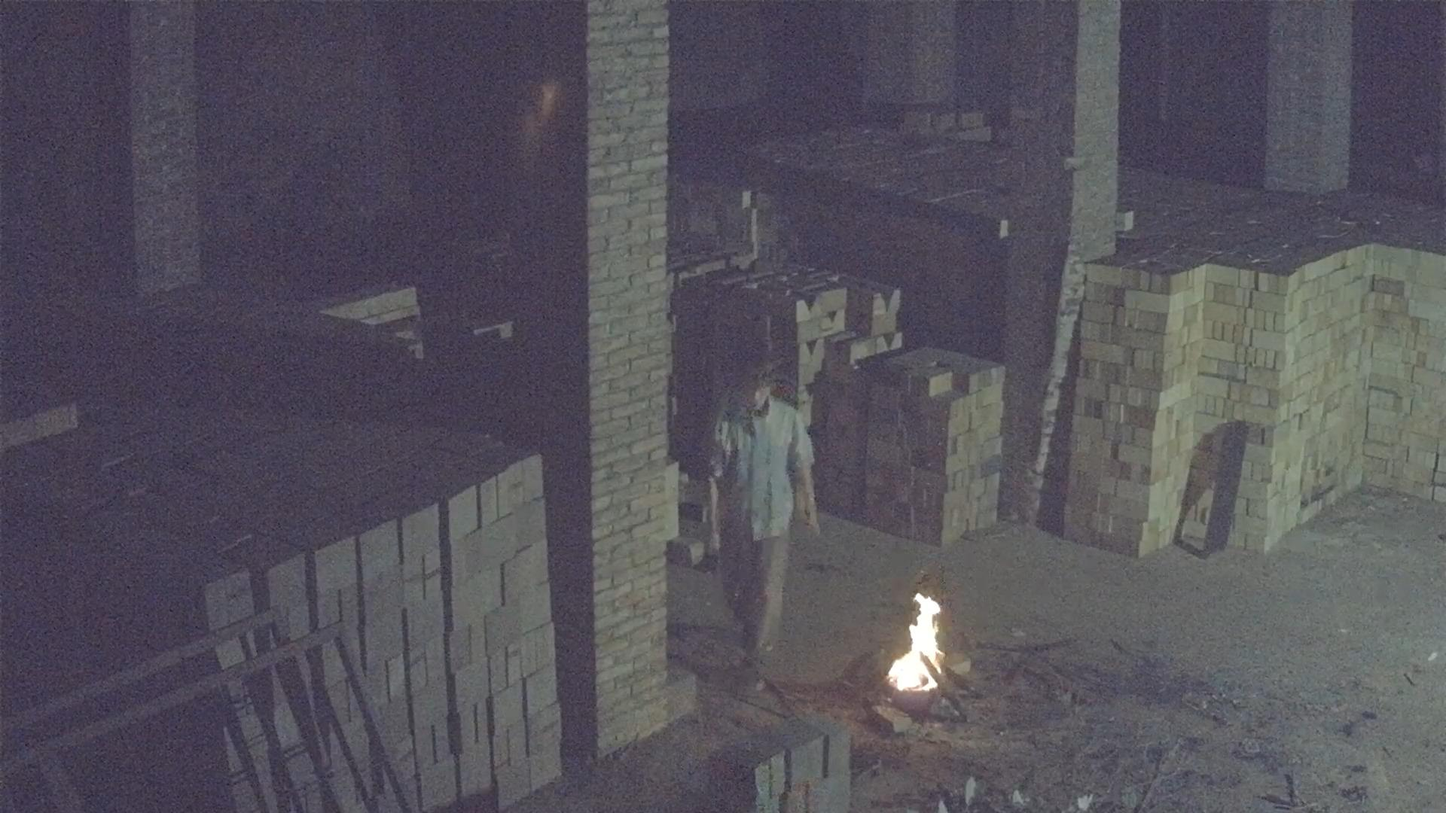fire: (887, 593, 944, 696)
